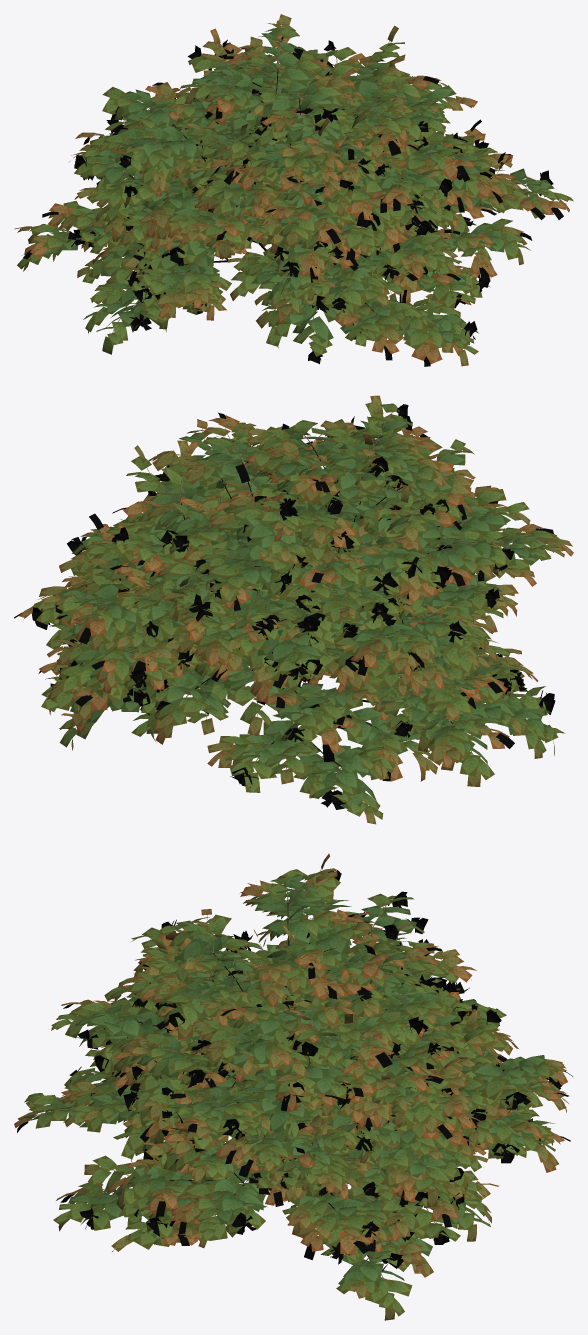
File: Loropetalum chinense var rubrum HD_Standard mat 0_LOD1.fbx
The picture shows the model from 3 angles, top to bottom: view 1: azimuth 30°, elevation 25°; view 2: azimuth 150°, elevation 25°; view 3: azimuth 270°, elevation 25°; orthographic projection. The views are drawn at different scales.
Parts seen in each view (by area): view 1: Loropetalum_chinense_var_rubrum_HD; view 2: Loropetalum_chinense_var_rubrum_HD; view 3: Loropetalum_chinense_var_rubrum_HD.
Part boxes in pixels (x1,y1,x2,y2): Loropetalum_chinense_var_rubrum_HD: (14,14,573,366); Loropetalum_chinense_var_rubrum_HD: (14,395,573,824); Loropetalum_chinense_var_rubrum_HD: (14,853,572,1320).
Size of the model in its own units: 1.08 by 0.6983 by 1.03.
